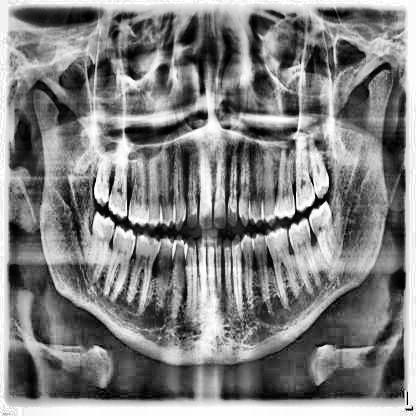Mandible: (32, 68, 395, 368)
Maxilla: (87, 126, 341, 233)
